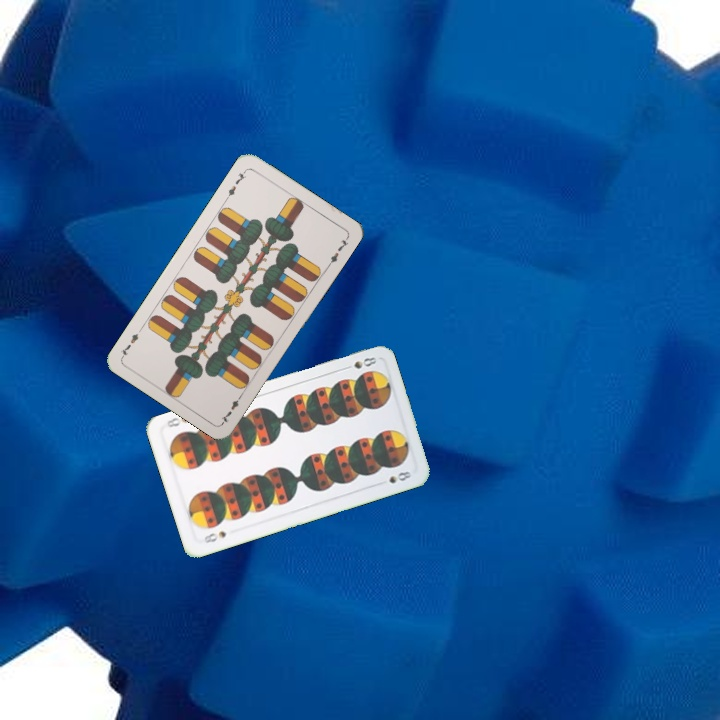E7: (217, 389, 245, 426), (222, 166, 249, 202)
S8: (200, 527, 229, 546), (350, 353, 379, 371)
